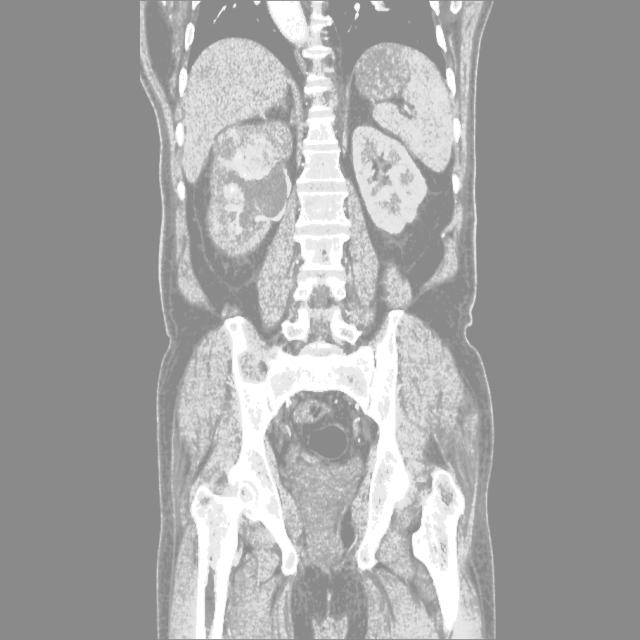TUMOR: (182, 128, 524, 305)
